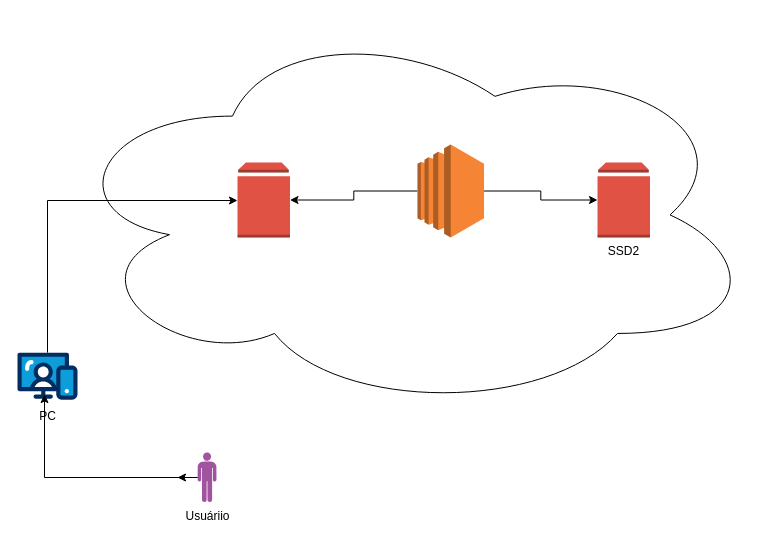
The diagram is 775 pixels wide and 541 high, and some of its shapes have lost their labels. The shapes that lost their labels are listed below. From the top down, each one's centre as x and y in pixels, then its label:
At pixel 263 200: "SSD1".
At pixel 450 191: "First_instace Amazon Linux".
